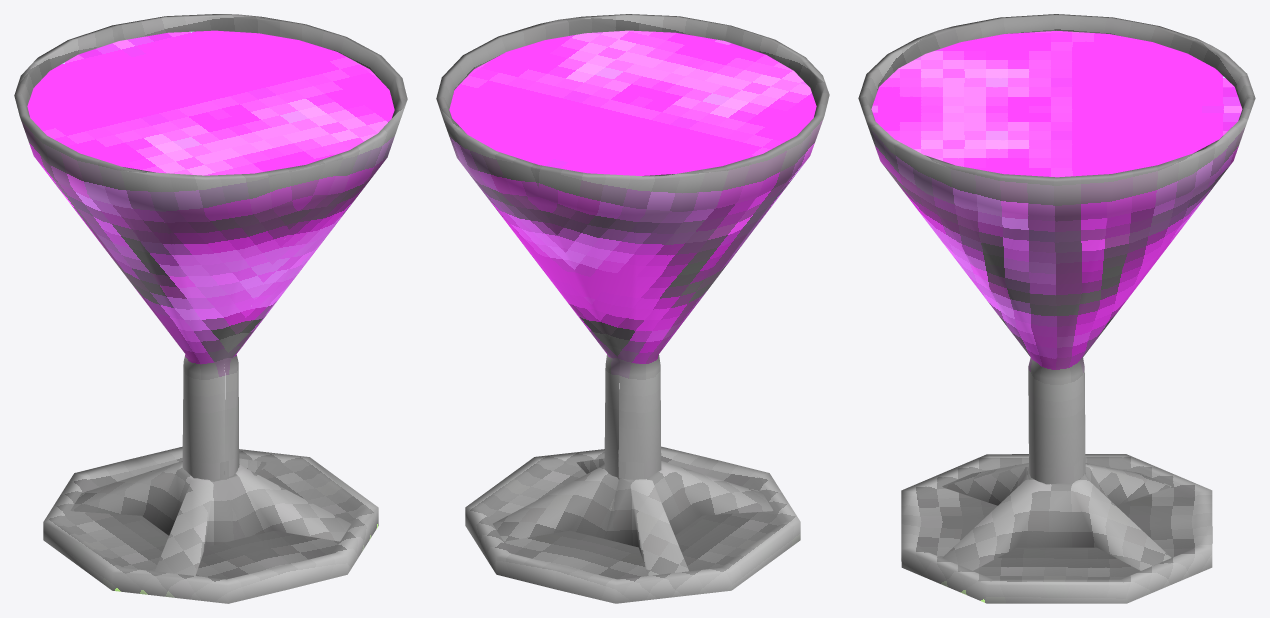
File: bar_cocktails_6_b.glb
3 views of the same model, side by side, from view 1: azimuth 30°, elevation 25°; view 2: azimuth 150°, elevation 25°; view 3: azimuth 270°, elevation 25° (orthographic).
Visible parts, largest first — view 1: bar_cocktails_6; view 2: bar_cocktails_6; view 3: bar_cocktails_6.
Boxes of the visible parts, x1=… form: bar_cocktails_6: x1=14, y1=14, x2=407, y2=603; bar_cocktails_6: x1=436, y1=14, x2=829, y2=603; bar_cocktails_6: x1=858, y1=14, x2=1255, y2=603.
Size of the model in its own units: 0.1141 by 0.1401 by 0.1141.
1 material, 1 textured.
